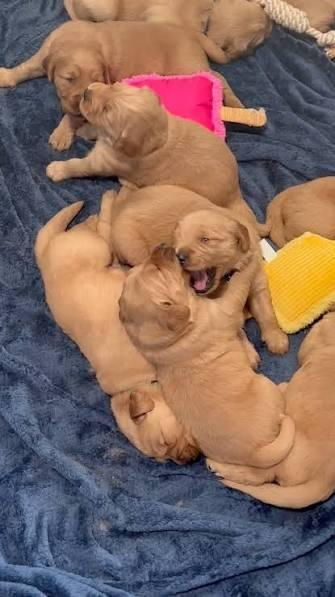puppy-dog: (34, 201, 199, 465), (117, 250, 295, 469), (46, 81, 269, 239), (1, 19, 244, 151), (109, 184, 290, 356), (204, 314, 335, 509), (63, 0, 273, 63), (266, 174, 335, 252)
